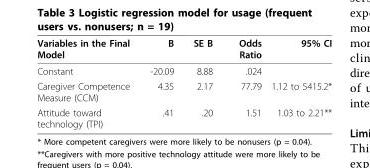table: (36, 36, 331, 129)
table column: (36, 36, 139, 129), (265, 36, 331, 129), (139, 36, 182, 129), (182, 36, 225, 129), (225, 36, 265, 129)
table column header: (36, 36, 331, 62)
table row: (36, 36, 331, 62), (36, 78, 331, 104), (36, 104, 331, 129), (36, 62, 331, 78)
